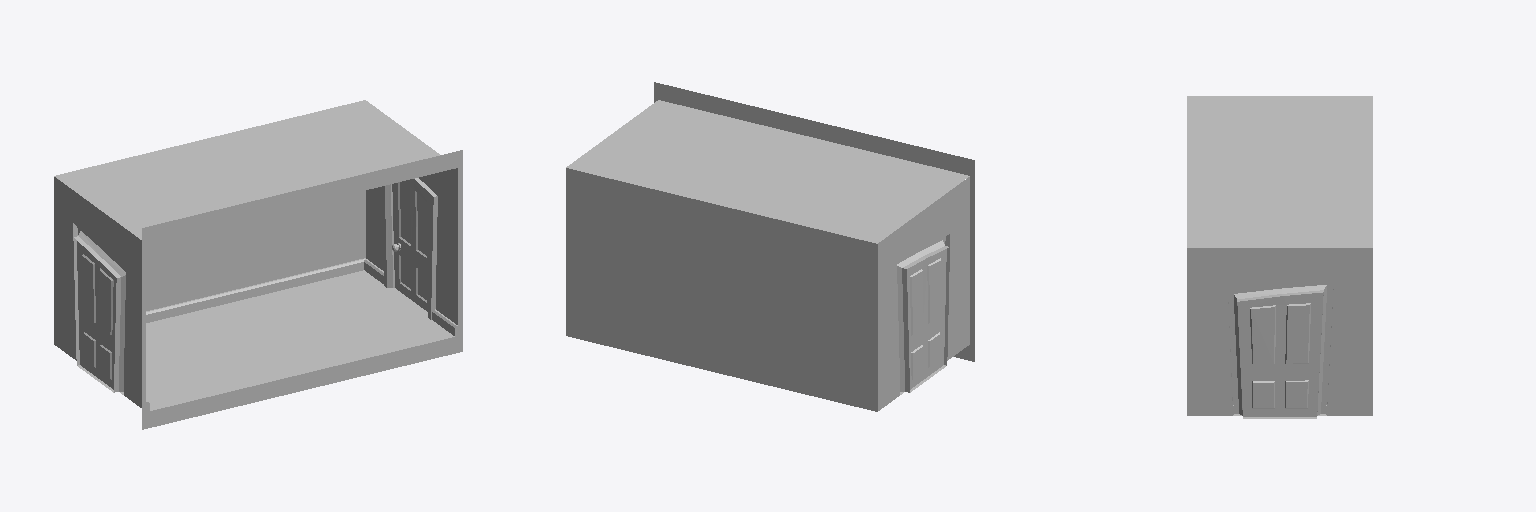
The model's file is room_2x1.obj.
The picture shows the model from 3 angles: view 1: azimuth 30°, elevation 25°; view 2: azimuth 150°, elevation 25°; view 3: azimuth 270°, elevation 25°; orthographic projection.
Visible parts, largest first — view 1: Cube.164_Cube.1012, Cube.167_Cube.1016, Cube.166_Cube.1014, Cube.162_Cube.1010, door_wall.033_Plane.409, door_wall.039_Plane.411, door_wall.041_Plane.413, door_wall.030_Plane.418, door_wall.032_Plane.408, door_wall.047_Plane.416; view 2: Cube.166_Cube.1014, Cube.167_Cube.1016, door_wall.033_Plane.409, door_wall.039_Plane.411, Cube.162_Cube.1010; view 3: Cube.167_Cube.1016, door_wall.030_Plane.418, door_wall.041_Plane.413.
Boxes of the visible parts, <box> form: Cube.164_Cube.1012: <box>120,270,454,410</box>; Cube.167_Cube.1016: <box>54,100,439,239</box>; Cube.166_Cube.1014: <box>58,179,365,310</box>; Cube.162_Cube.1010: <box>142,150,462,429</box>; door_wall.033_Plane.409: <box>54,177,141,407</box>; door_wall.039_Plane.411: <box>73,223,125,392</box>; door_wall.041_Plane.413: <box>382,178,437,319</box>; door_wall.030_Plane.418: <box>366,168,457,324</box>; door_wall.032_Plane.408: <box>146,258,364,322</box>; door_wall.047_Plane.416: <box>364,258,457,336</box>; Cube.166_Cube.1014: <box>566,168,877,411</box>; Cube.167_Cube.1016: <box>566,100,969,243</box>; door_wall.033_Plane.409: <box>878,177,969,410</box>; door_wall.039_Plane.411: <box>897,234,949,392</box>; Cube.162_Cube.1010: <box>654,82,974,361</box>; Cube.167_Cube.1016: <box>1187,96,1372,247</box>; door_wall.030_Plane.418: <box>1187,248,1372,415</box>; door_wall.041_Plane.413: <box>1228,280,1333,418</box>.
Bounding box in the file's own units: 20 × 12 × 10.